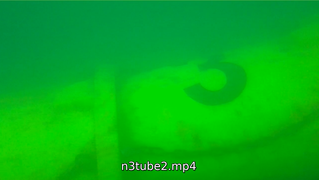3: (173, 52, 247, 106)
pipe: (1, 22, 318, 180)
